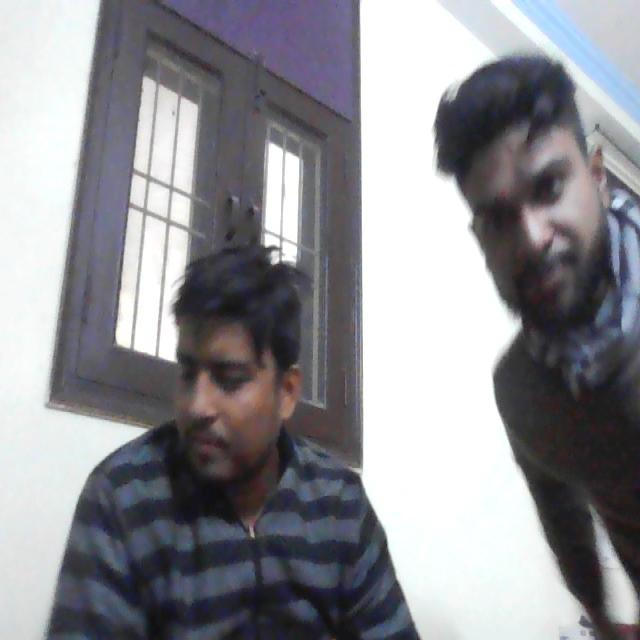real: (470, 60, 609, 323), (164, 244, 303, 507)
